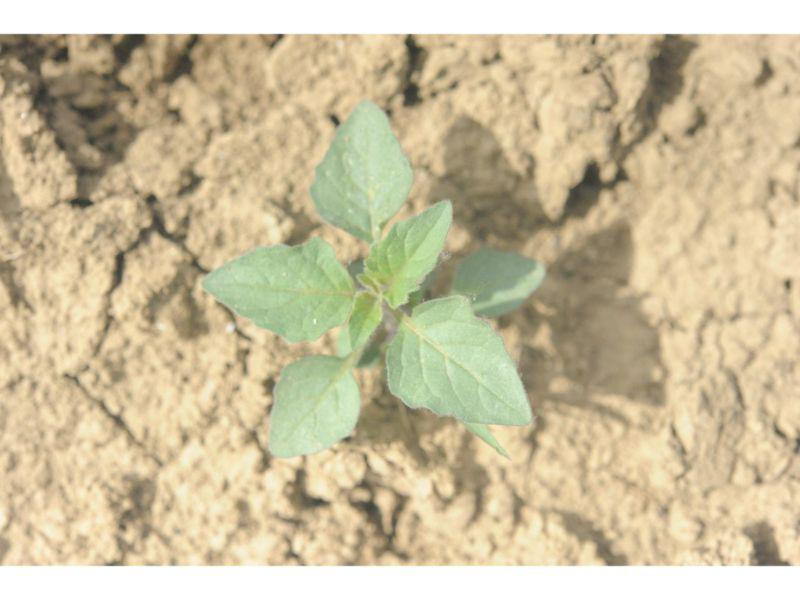nightshade: (198, 99, 547, 457)
